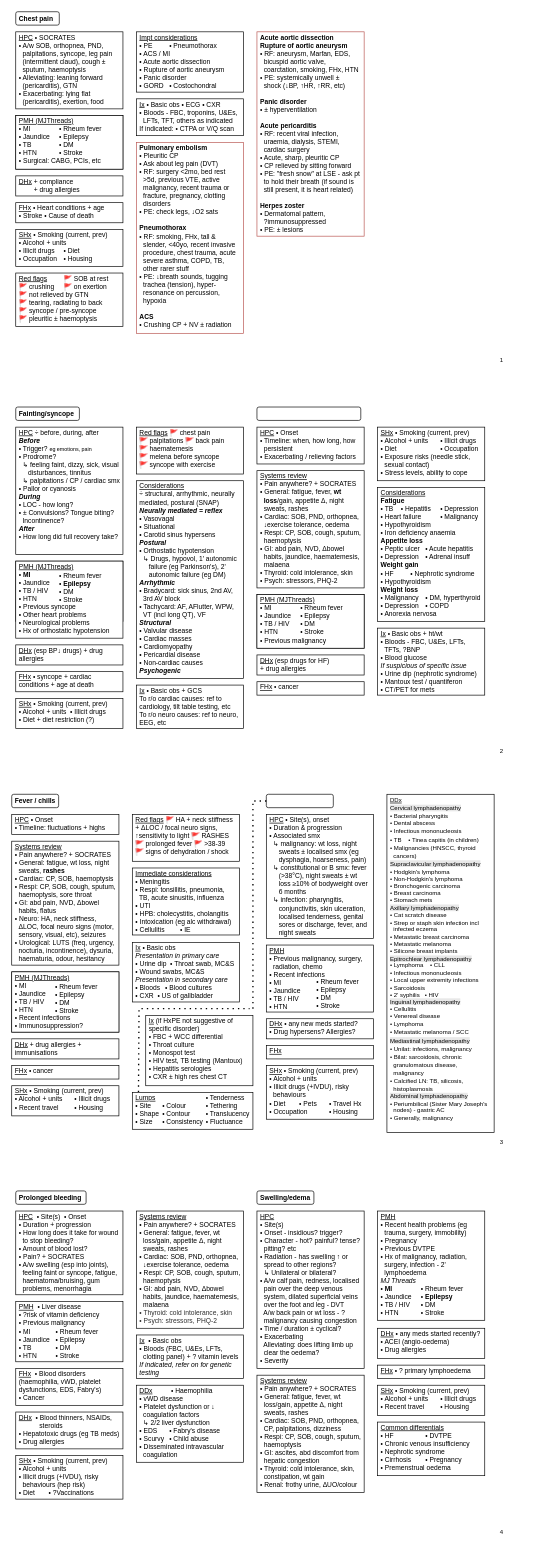
The diagram is 541 pixels wide and 1561 high, and some of its shapes have lost their labels. The shapes that lost their labels are listed below. From the top down, each one's centre as x and y in pixels, then its label:
[308,413]: Fatigue / Appetite Δ / Weight Δ
[299,801]: Lymphadenopathy
